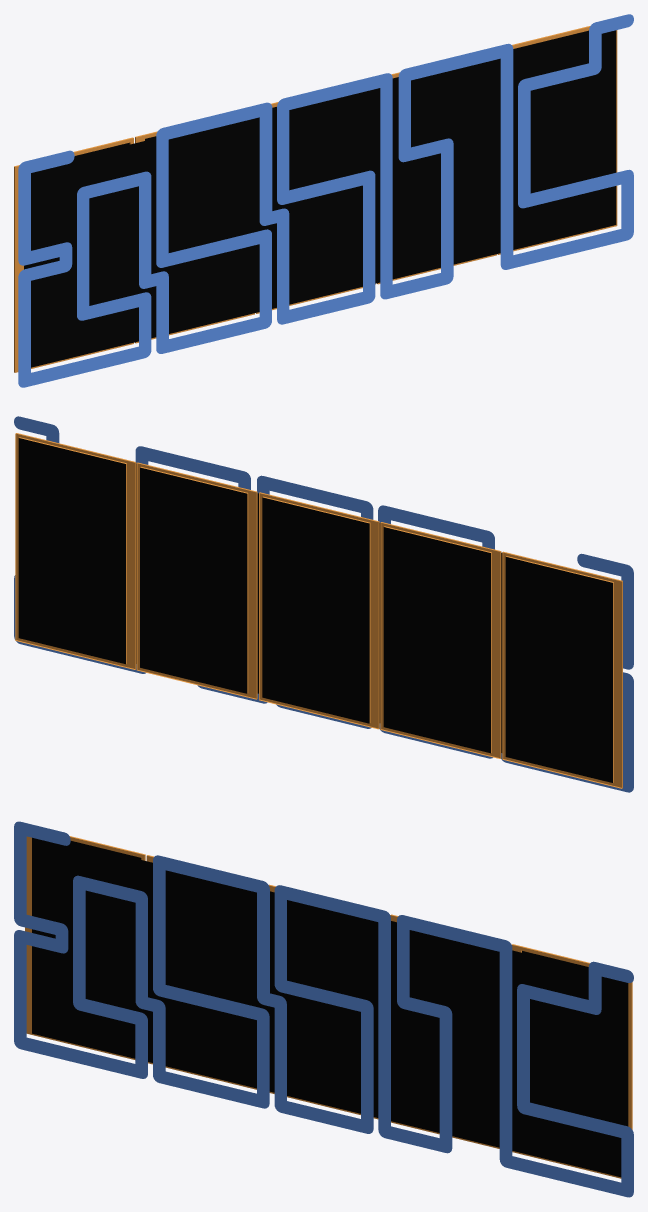
3 renders of one model, top to bottom at view 1: azimuth 30°, elevation 25°; view 2: azimuth 150°, elevation 25°; view 3: azimuth 330°, elevation 25°, orthographic.
Parts seen in each view (by area): view 1: Plane.004, Plane.007, Plane.012; view 2: Plane.012, Plane.007, Plane.004; view 3: Plane.004, Plane.007, Plane.012.
Part boxes in pixels (<box>): Plane.004: <box>26,30,616,367</box>; Plane.007: <box>18,14,633,387</box>; Plane.012: <box>14,26,617,372</box>; Plane.012: <box>15,433,622,788</box>; Plane.007: <box>14,416,633,792</box>; Plane.004: <box>136,464,502,752</box>; Plane.004: <box>32,837,625,1177</box>; Plane.007: <box>14,821,633,1197</box>; Plane.012: <box>25,836,632,1178</box>.
Size of the model in its own units: 5.35 by 1.88 by 0.1214.
